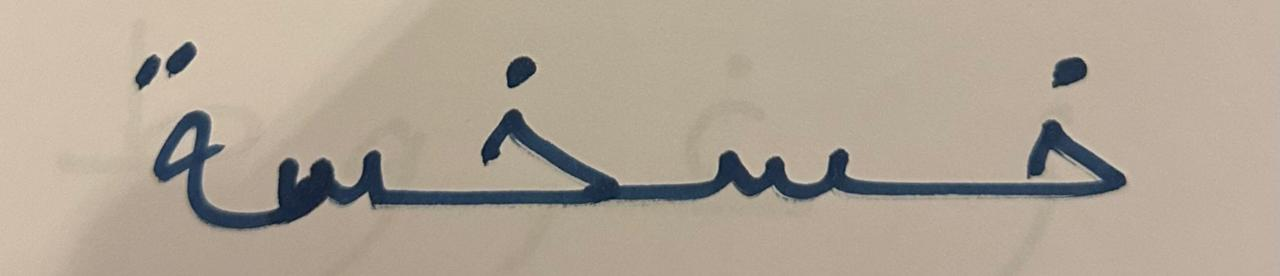lam: (881, 13, 1166, 263), (410, 13, 634, 253)
sheen: (637, 13, 876, 264), (238, 56, 407, 257)
thal: (114, 19, 233, 262)
